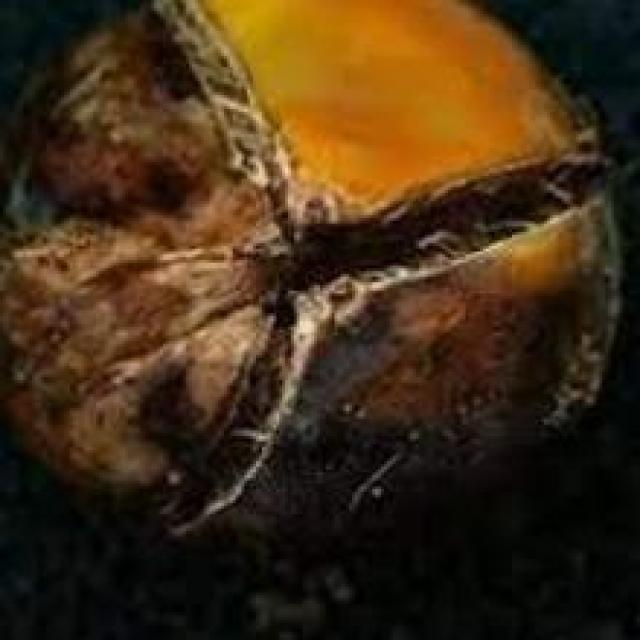damaged: (0, 0, 617, 534)
